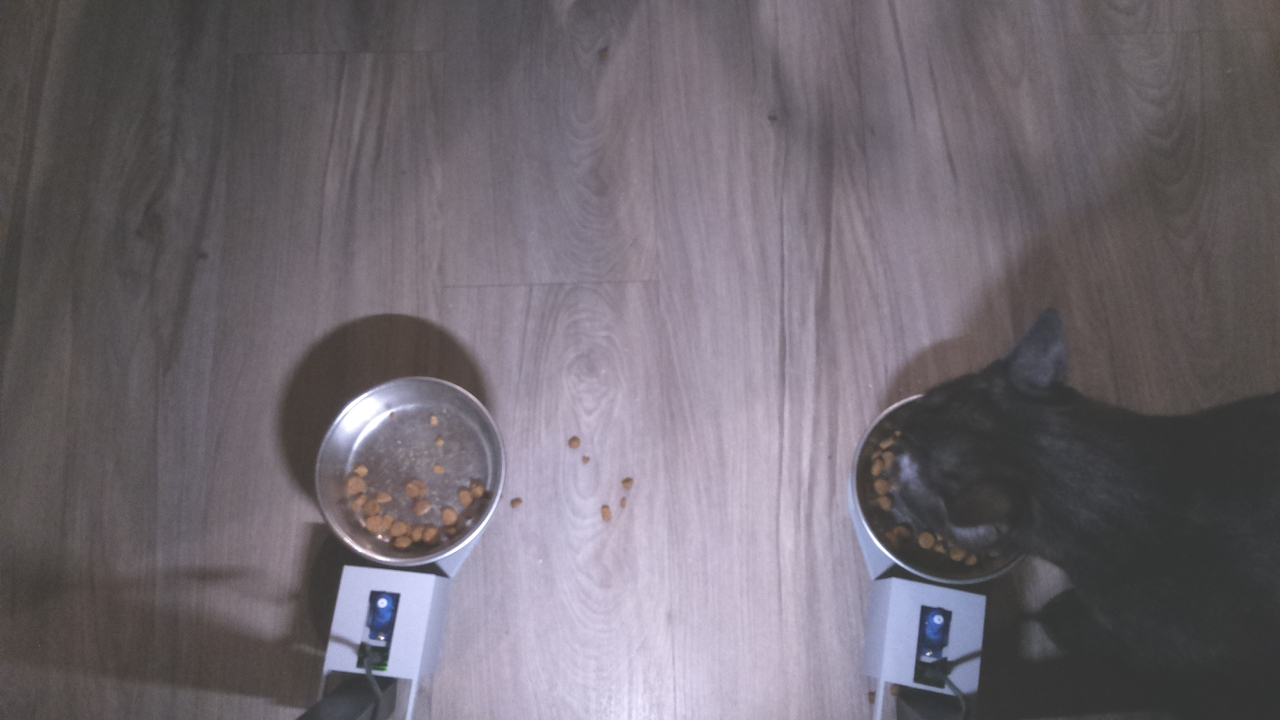open_bowl: (308, 370, 506, 575)
saki_eating: (843, 300, 1136, 591)
